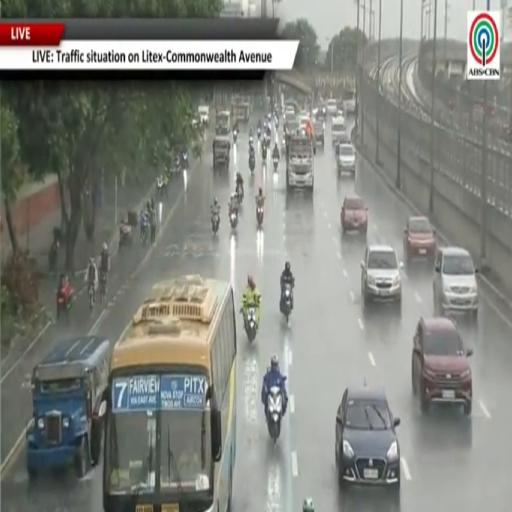bus: (104, 276, 236, 511)
car: (336, 388, 400, 488), (412, 317, 473, 414), (433, 247, 478, 319), (361, 245, 403, 306), (403, 217, 437, 263), (341, 196, 368, 234), (337, 143, 356, 175), (331, 118, 345, 147), (198, 105, 209, 125), (327, 99, 337, 116)
jeepney: (26, 335, 109, 477), (212, 136, 231, 170), (232, 99, 250, 123), (216, 110, 230, 135), (313, 121, 324, 147)
motorcycle: (267, 387, 282, 442), (57, 287, 73, 323), (280, 283, 293, 323), (244, 306, 257, 342), (119, 223, 132, 249), (48, 238, 58, 271), (99, 271, 107, 303), (88, 285, 95, 315), (141, 220, 149, 245), (157, 178, 167, 198), (256, 205, 264, 227), (212, 213, 220, 234), (236, 184, 244, 204), (180, 152, 188, 170), (230, 212, 238, 229), (249, 154, 255, 172), (262, 147, 267, 164), (273, 157, 278, 171), (233, 131, 237, 143), (249, 136, 253, 147), (257, 128, 261, 139)
truck: (286, 134, 315, 191)
